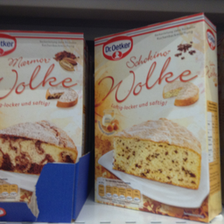cake: (93, 13, 223, 223), (1, 29, 86, 202)
